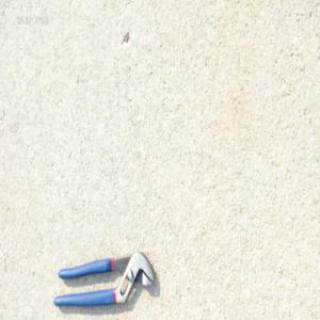Pliertrack_idkeyframe: (51, 247, 155, 307)
